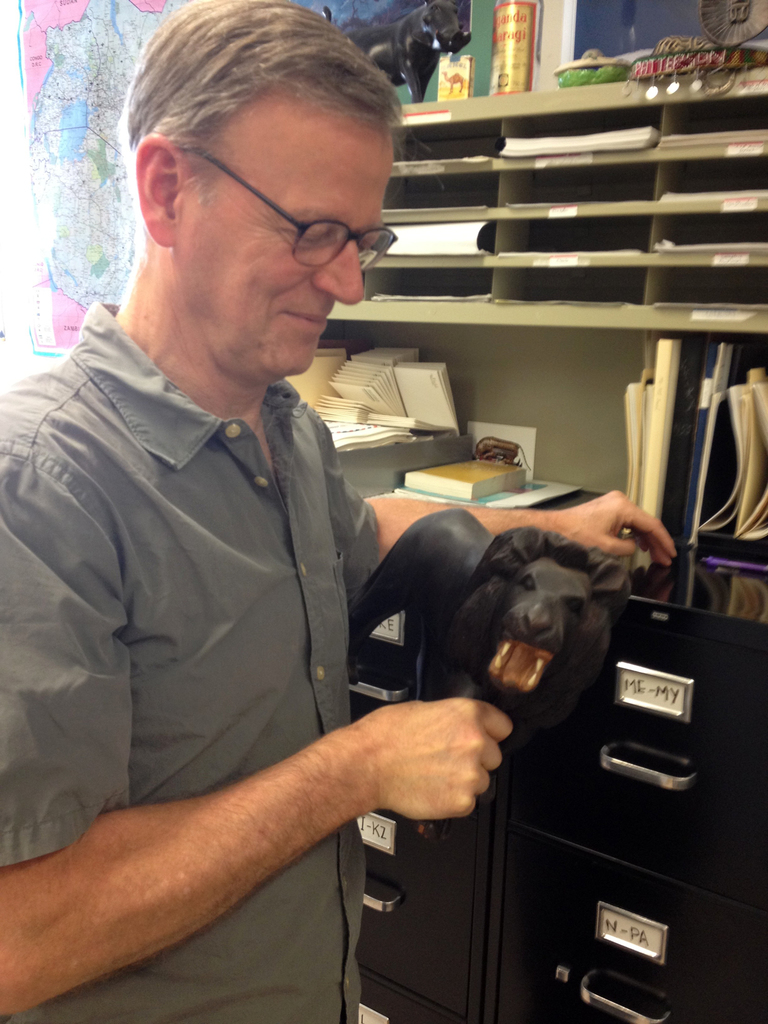cabinet door: (554, 678, 764, 856), (518, 893, 741, 1024), (374, 831, 478, 980)
handle: (581, 970, 671, 1024), (595, 747, 690, 795), (368, 886, 403, 930)
